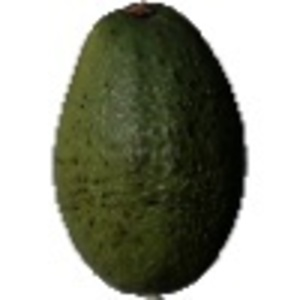abacate: (50, 1, 250, 294)
